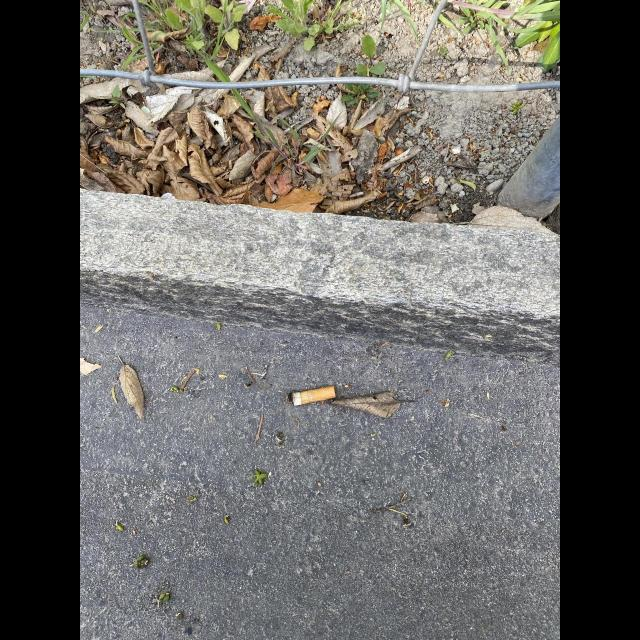cigarette: (289, 386, 335, 406)
